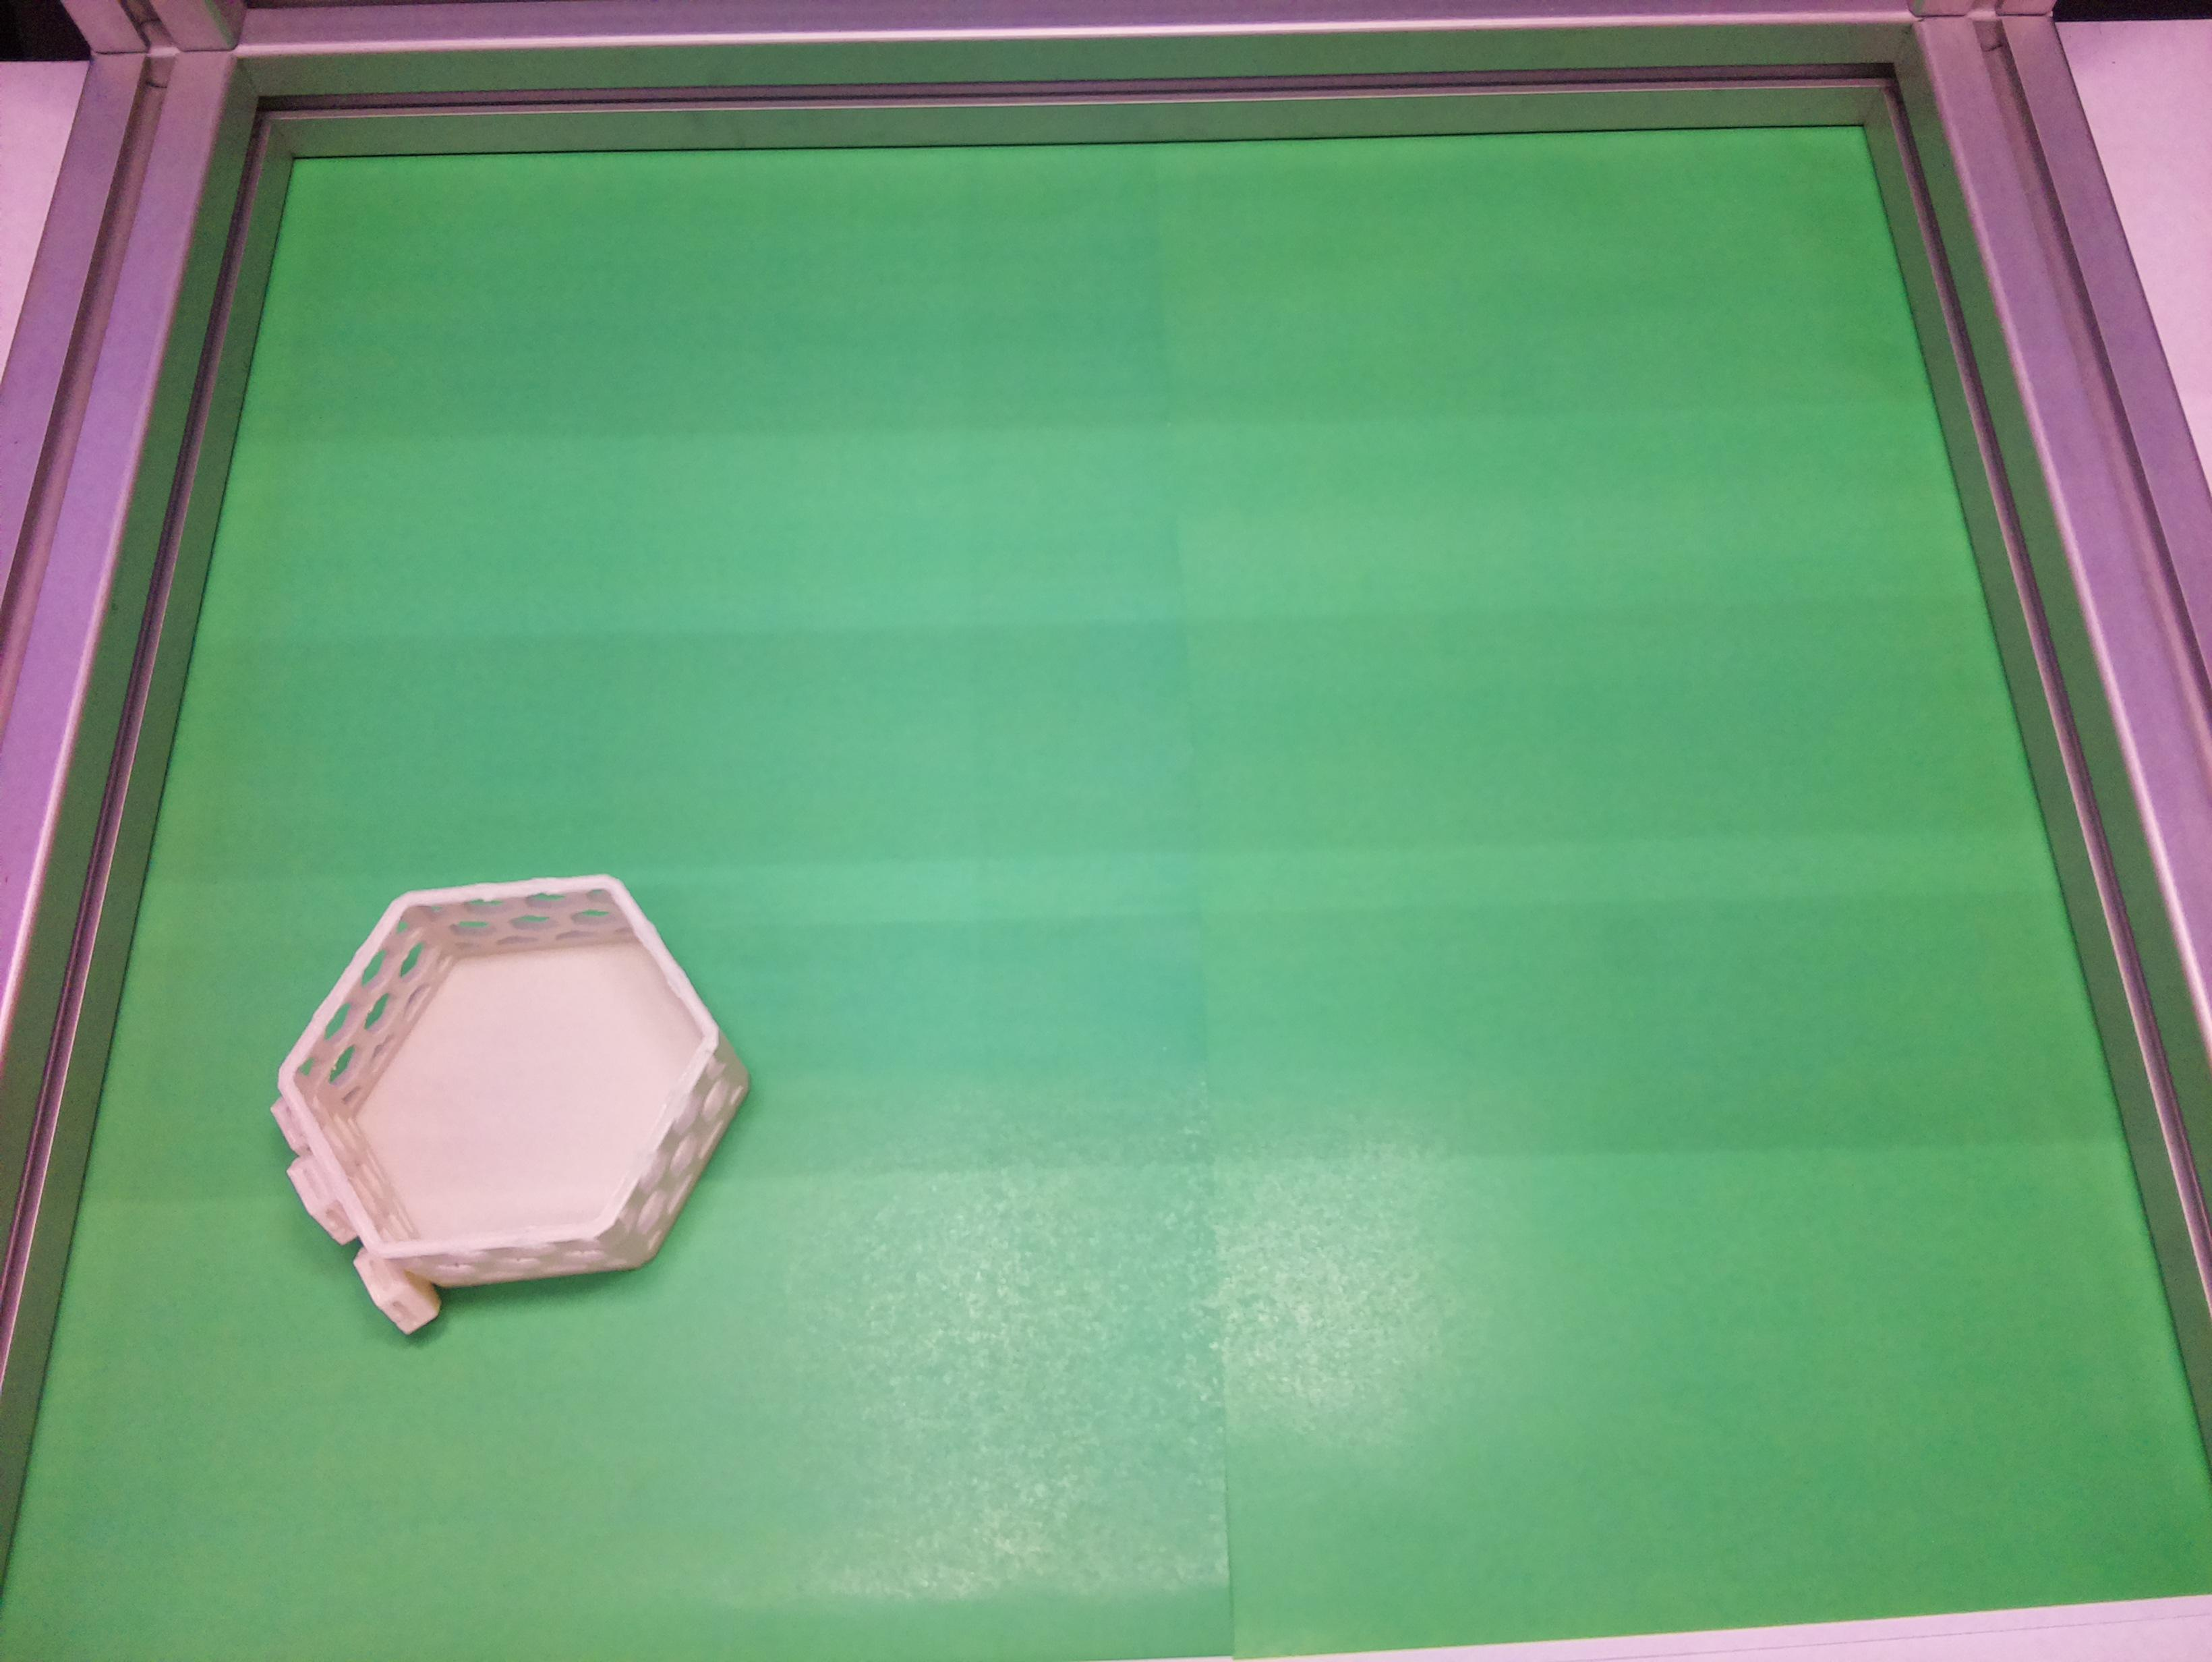bottle_holder: (192, 791, 803, 1400)
